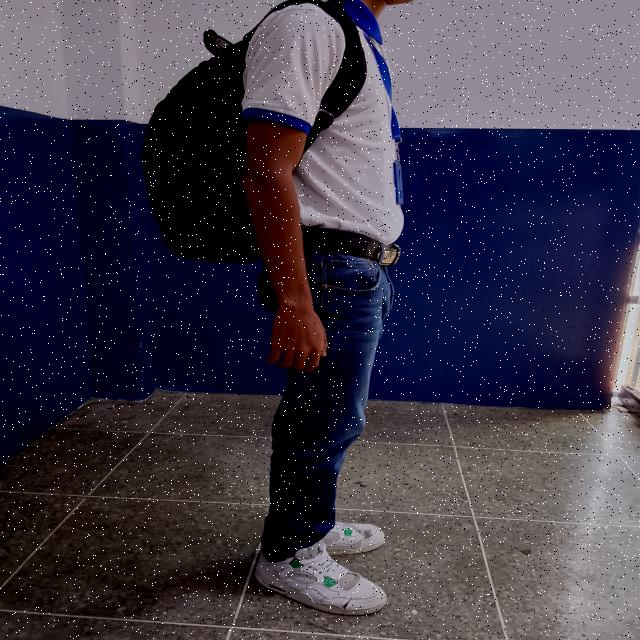carnet: (394, 162, 404, 205)
pantalon_oscuro: (256, 252, 396, 563)
uniforme_superior: (241, 0, 404, 245)
